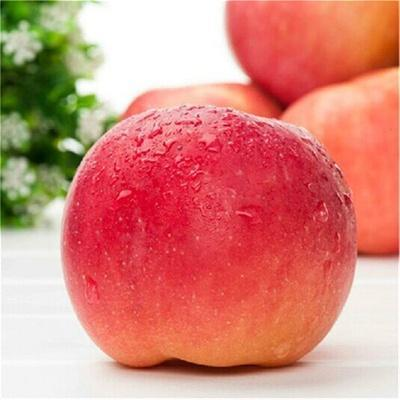apple: (61, 98, 361, 368)
